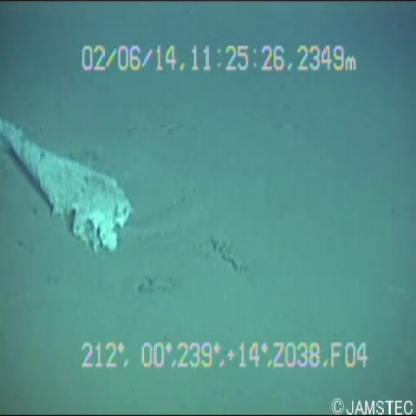Rác: (1, 111, 134, 267)
